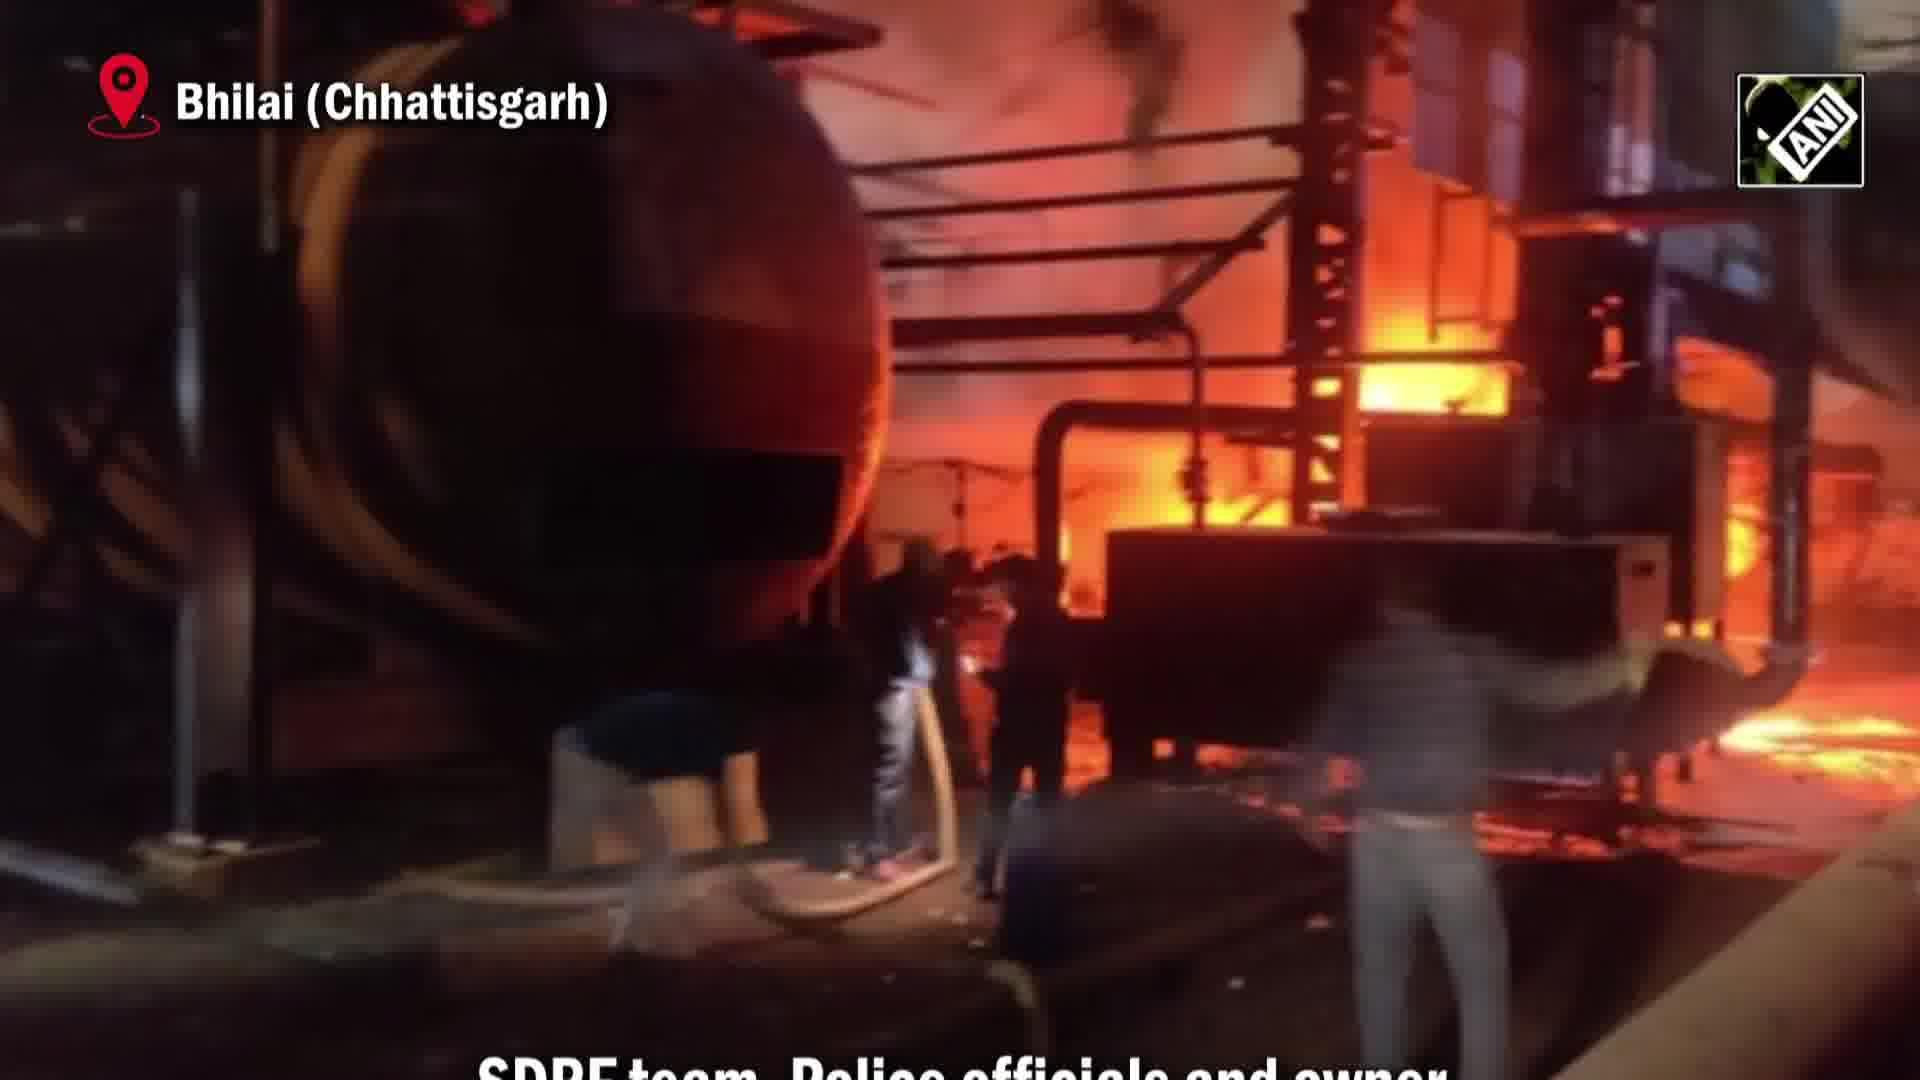fire: (1365, 320, 1502, 409), (1725, 708, 1920, 757), (1200, 480, 1294, 539)
